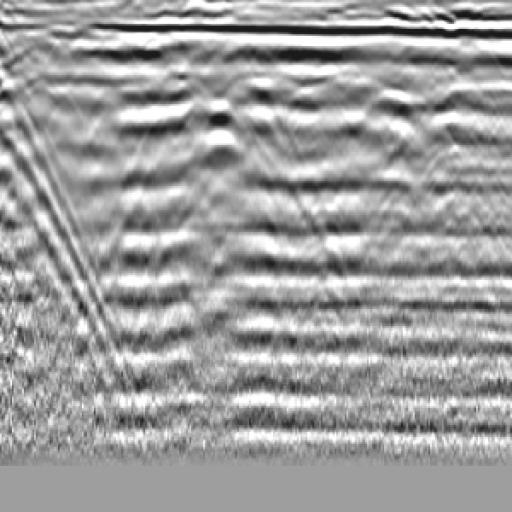metalic: (121, 51, 252, 137)
